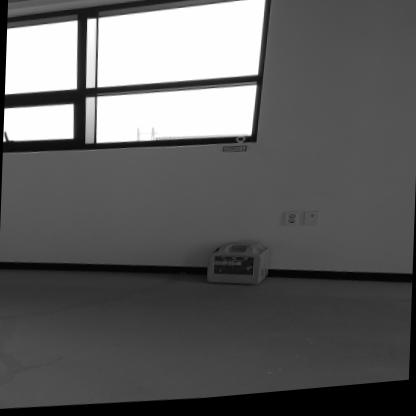DDL: (204, 245, 268, 291)
